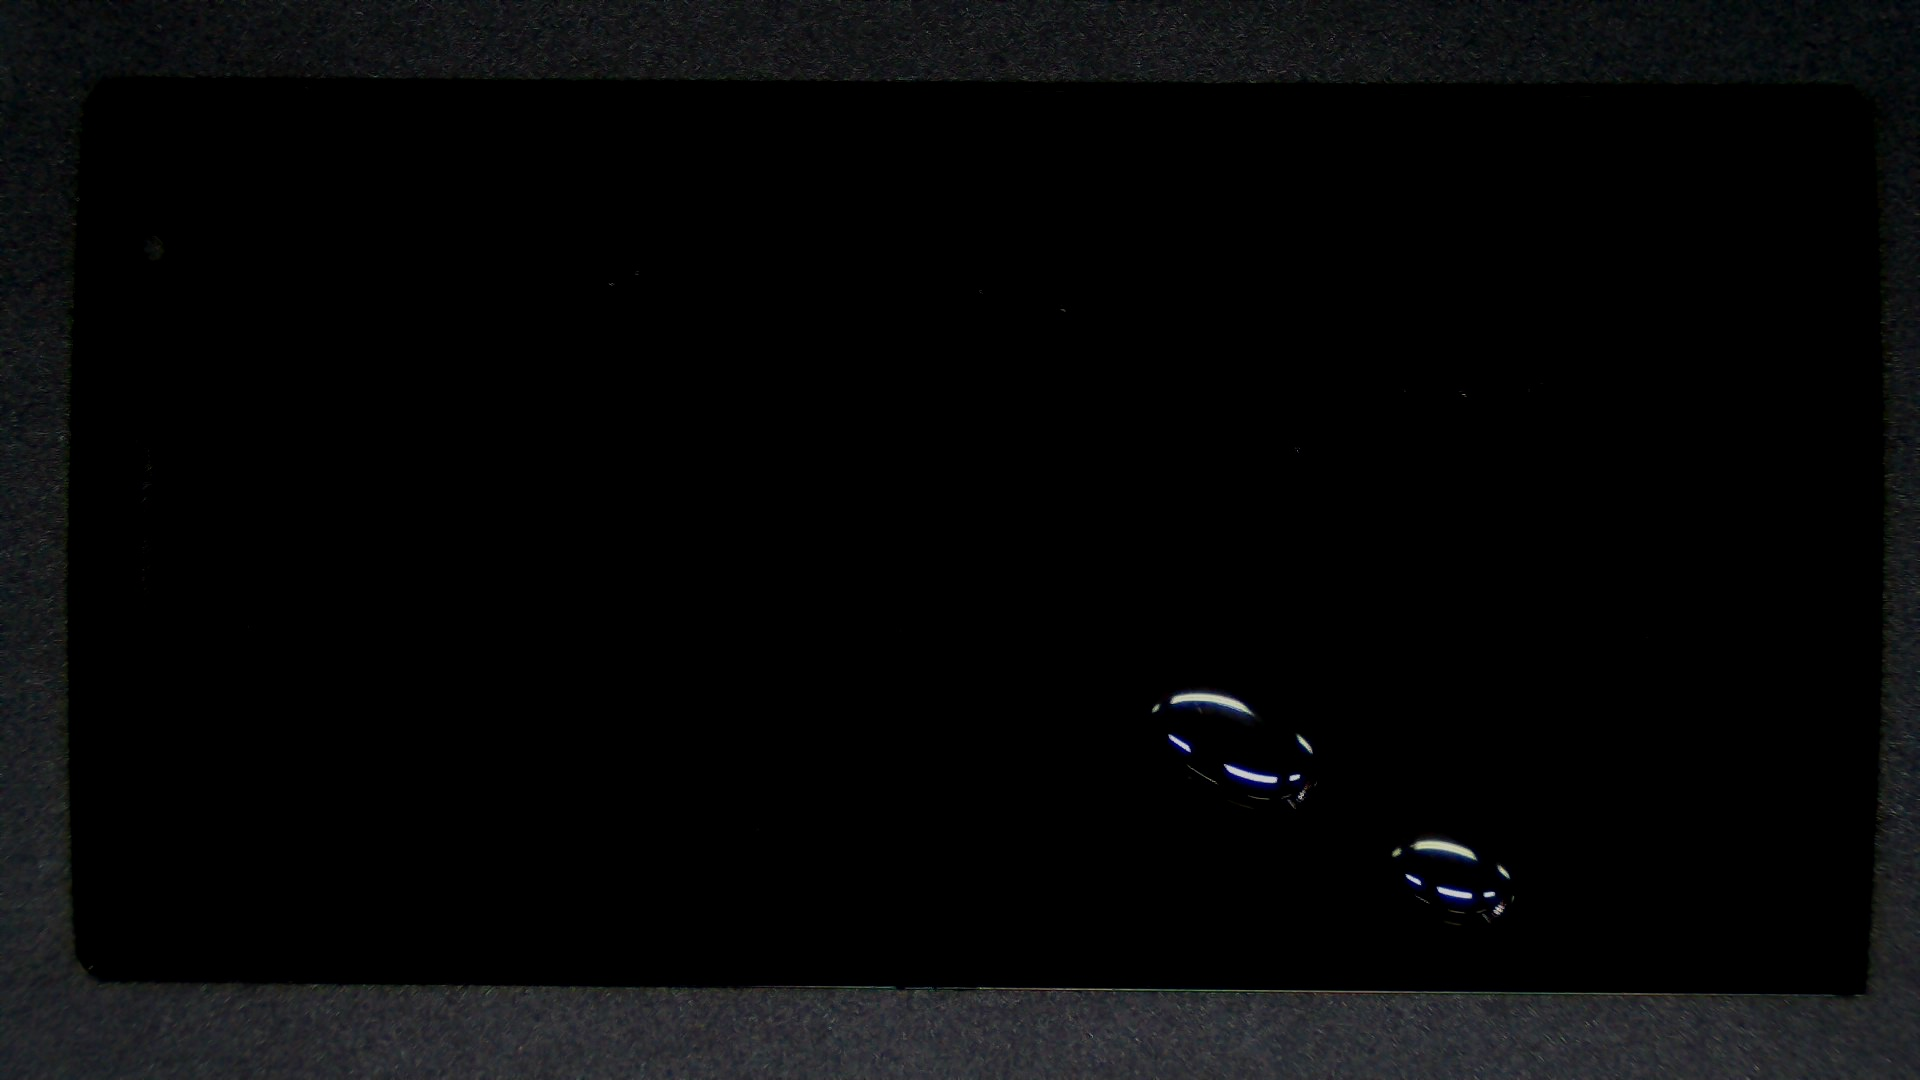oil: (712, 410, 1920, 1080), (596, 338, 1785, 1013)
